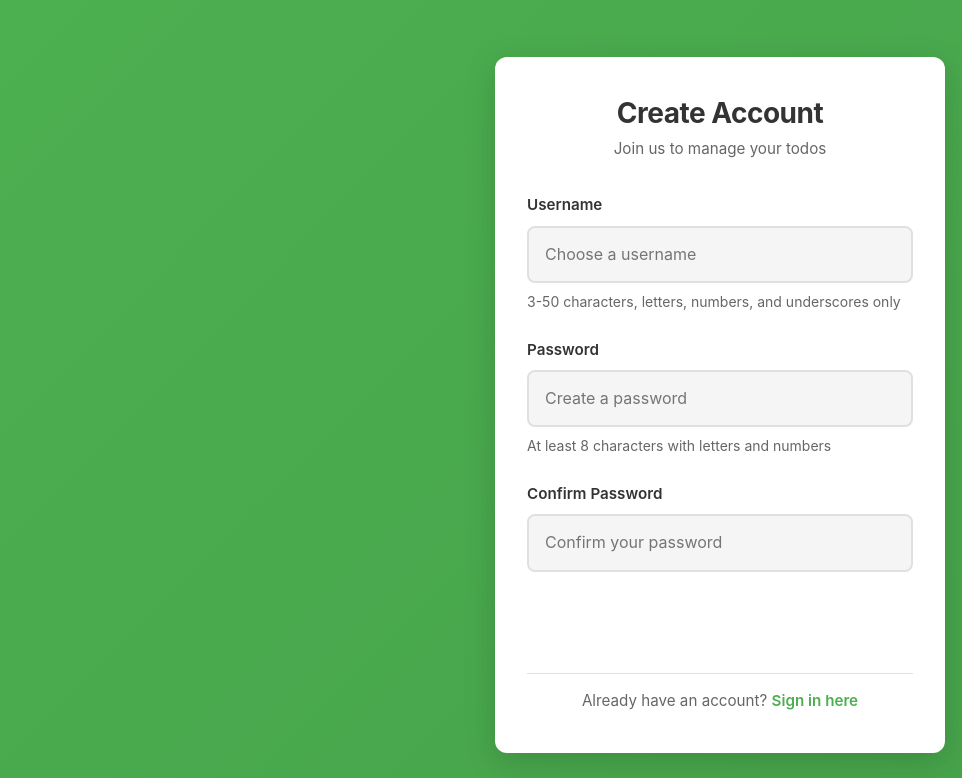
Scenario: SignupPage.vue › Username Validation › shows error for username shorter than 3 characters
Type "ab" into the field with id "username". click: (720,254)
box: [527,226,913,283]
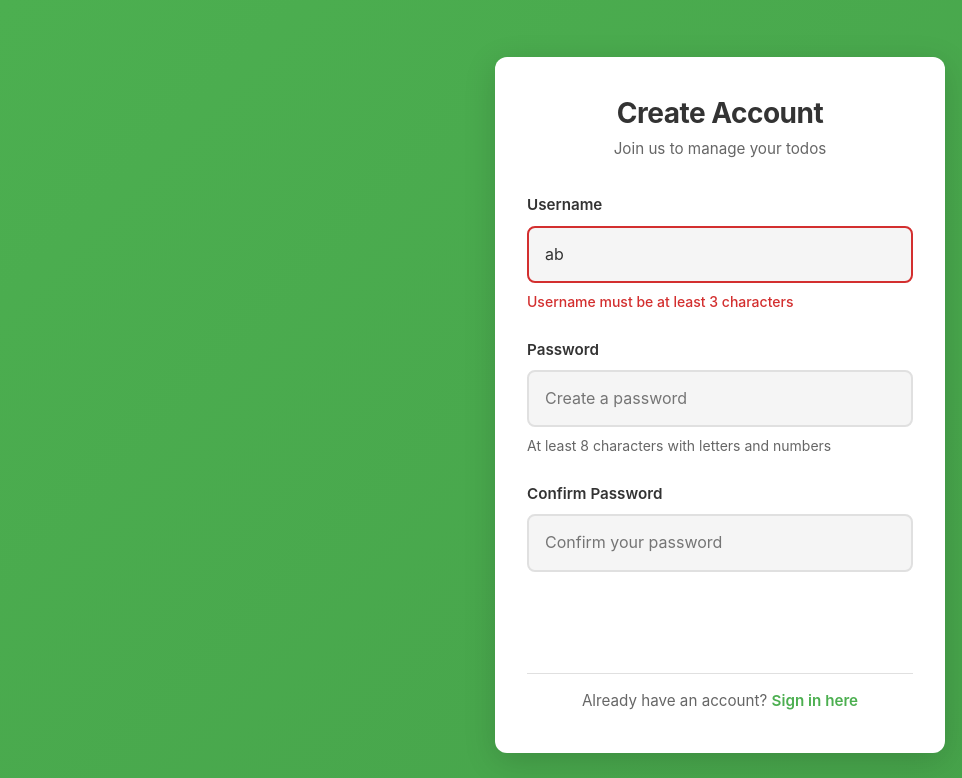
Expected: the message with id "username-error" shows "at least 3 characters", [527,293,794,310]
